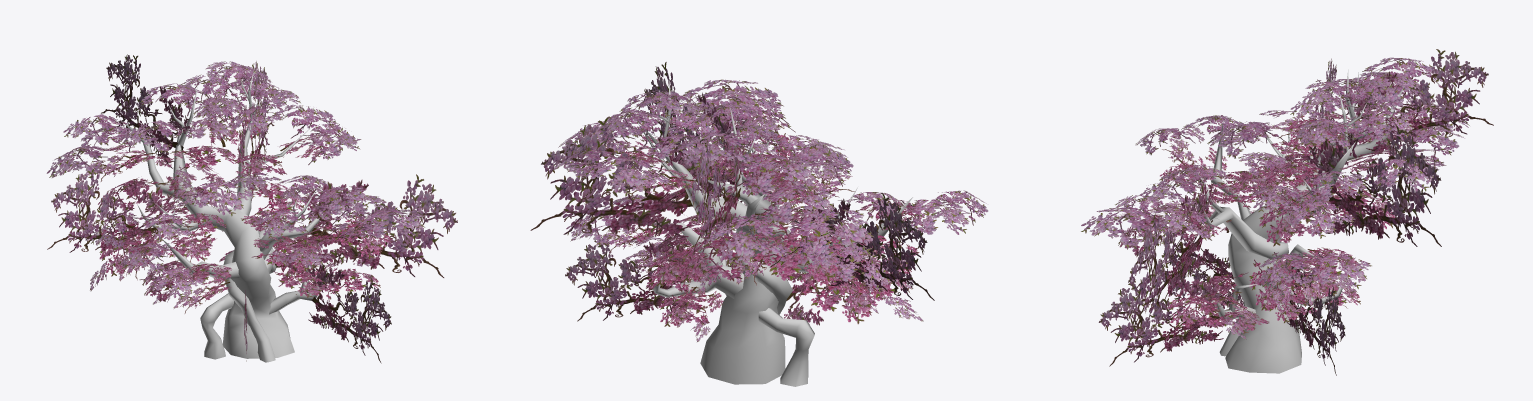
File: environment_Tree_taoshu_001_b.FBX
3 renders of one model, left to right at view 1: azimuth 30°, elevation 25°; view 2: azimuth 150°, elevation 25°; view 3: azimuth 270°, elevation 25°, orthographic. The views are drawn at different scales.
Visible parts, largest first — view 1: environment_Tree_taoshu_001_b_02, environment_Tree_taoshu_001_b_01; view 2: environment_Tree_taoshu_001_b_02, environment_Tree_taoshu_001_b_01; view 3: environment_Tree_taoshu_001_b_02, environment_Tree_taoshu_001_b_01.
Part boxes in pixels (bbox=[...]): environment_Tree_taoshu_001_b_02: bbox=[46, 54, 457, 363]; environment_Tree_taoshu_001_b_01: bbox=[121, 70, 342, 362]; environment_Tree_taoshu_001_b_02: bbox=[530, 62, 988, 341]; environment_Tree_taoshu_001_b_01: bbox=[638, 77, 912, 386]; environment_Tree_taoshu_001_b_02: bbox=[1081, 49, 1493, 375]; environment_Tree_taoshu_001_b_01: bbox=[1197, 69, 1404, 373].
Size of the model in its own units: 573 by 584 by 434.
